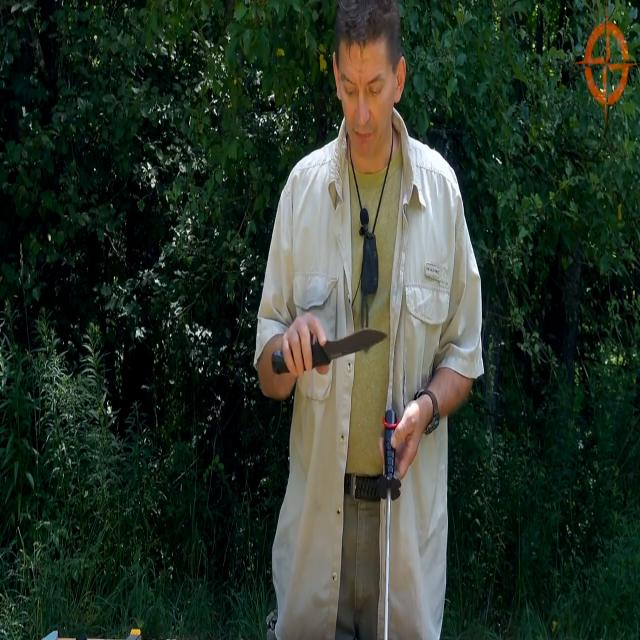knife: (271, 324, 389, 382)
